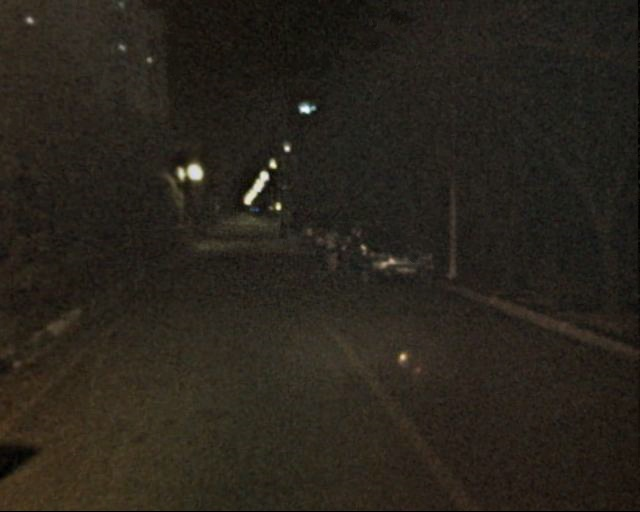person: (321, 222, 342, 274), (287, 214, 300, 245), (278, 219, 287, 241)
